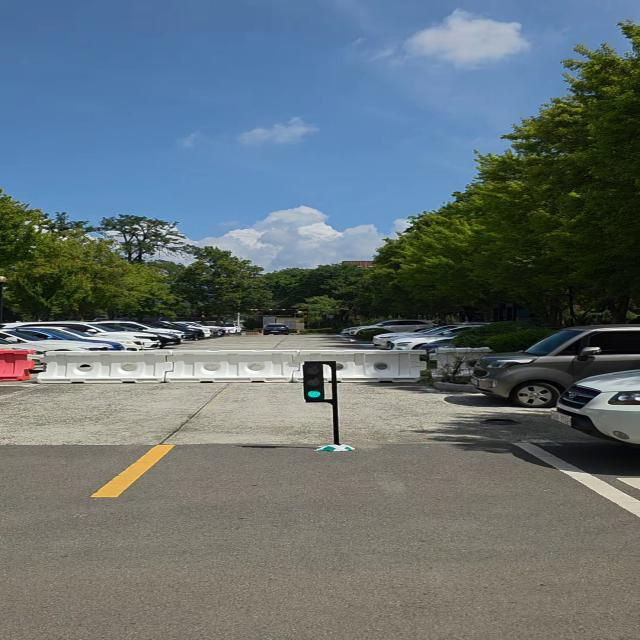green: (300, 362, 328, 403)
